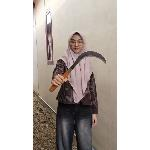Celurit: (52, 49, 110, 92)
